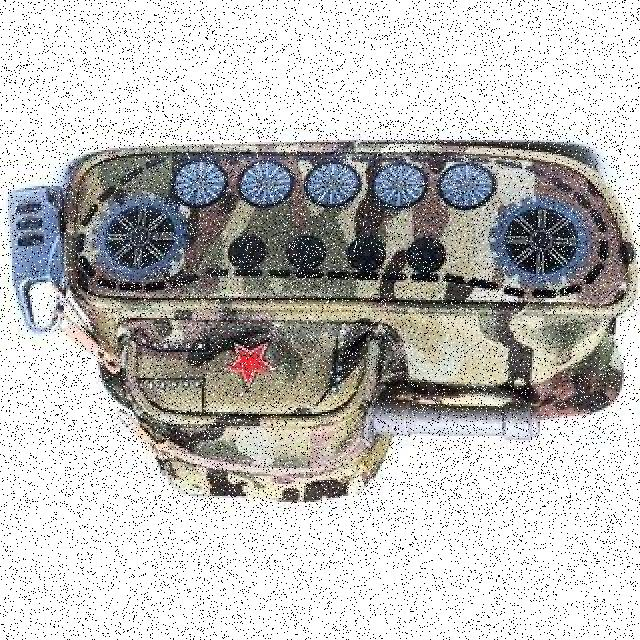MIL_MBT: (60, 118, 628, 516)
